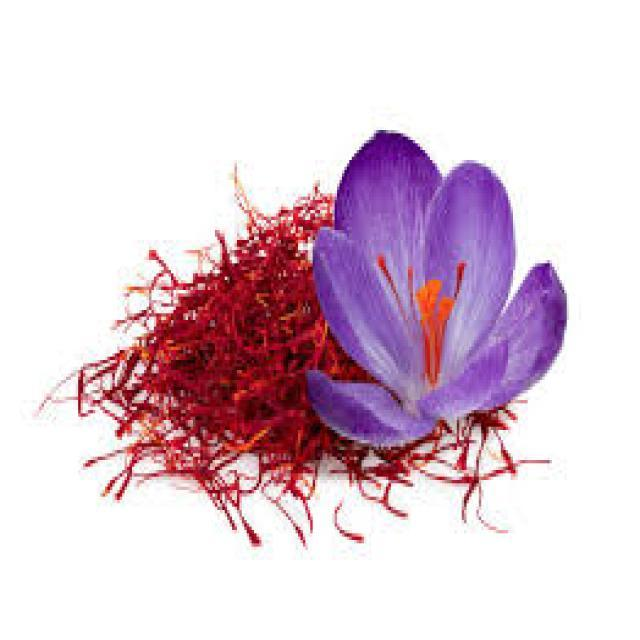Flower: (292, 123, 570, 494)
stigma: (418, 272, 441, 396), (377, 250, 408, 314)
